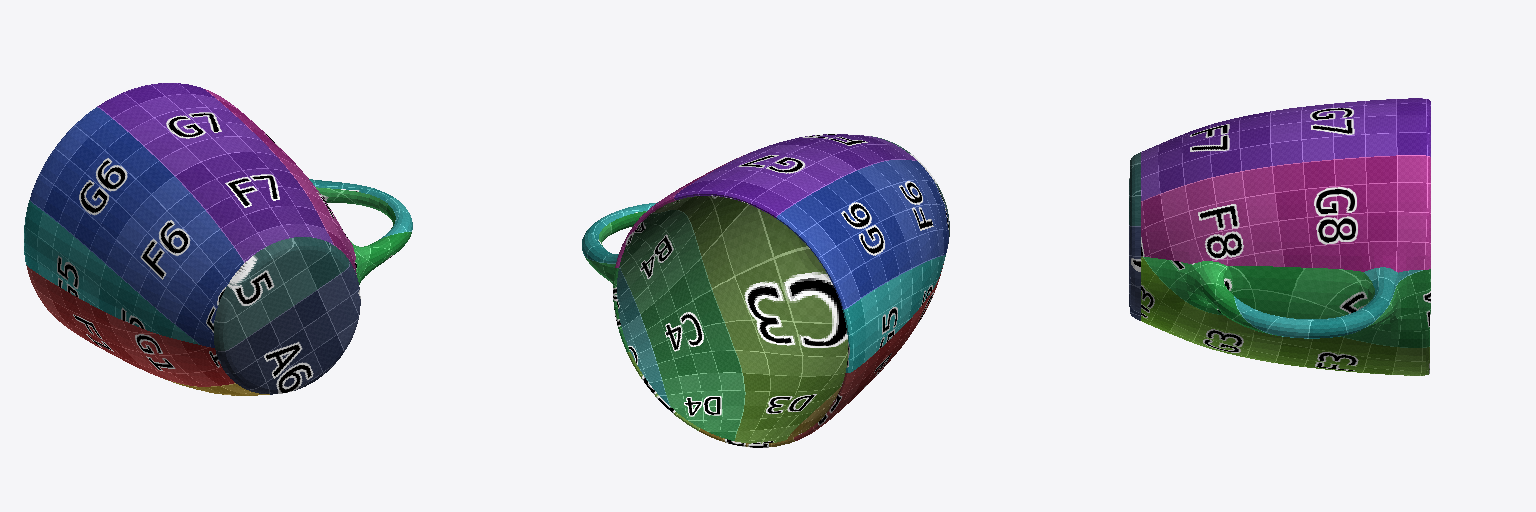
The picture shows the model from 3 angles: view 1: azimuth 30°, elevation 25°; view 2: azimuth 150°, elevation 25°; view 3: azimuth 270°, elevation 25°; orthographic projection.
Parts seen in each view (by area): view 1: Spongebob_cup.04_Cylinder.004; view 2: Spongebob_cup.04_Cylinder.004; view 3: Spongebob_cup.04_Cylinder.004.
Boxes of the visible parts, <box> form: Spongebob_cup.04_Cylinder.004: <box>24,83,412,395</box>; Spongebob_cup.04_Cylinder.004: <box>582,134,949,447</box>; Spongebob_cup.04_Cylinder.004: <box>1129,98,1430,375</box>.
Bounding box in the file's own units: 1.08 × 0.8194 × 0.8894.
1 materials, 1 textured.